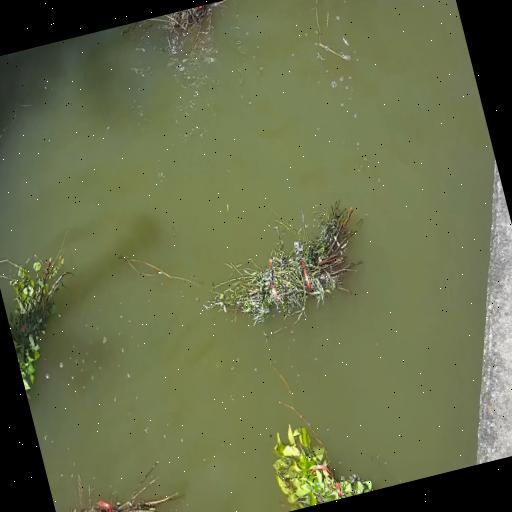twig: (0, 247, 95, 396), (221, 222, 360, 321), (264, 408, 365, 512), (131, 0, 244, 64), (53, 469, 183, 512), (290, 0, 357, 9)
